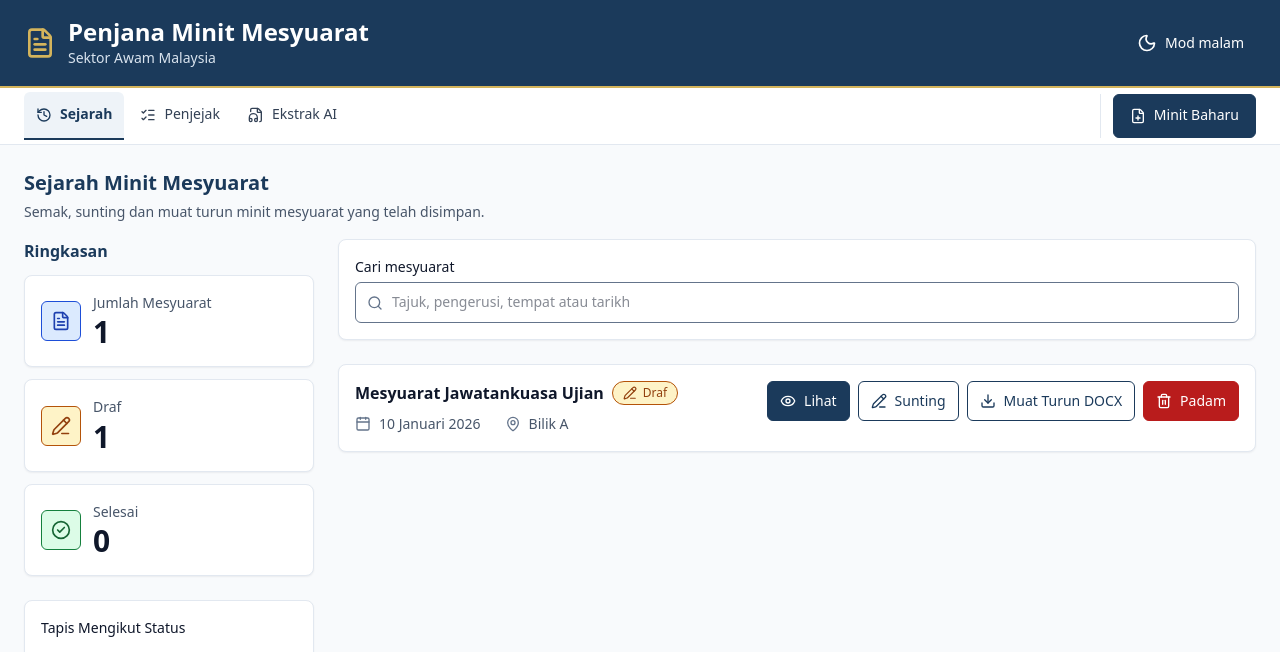
Test case: App navigation › leaving the editor flushes the draft, then refreshes /api/meetings
Check: the heading "Mesyuarat Jawatankuasa Ujian" is shown, box top-left (355, 381), bottom-right (604, 405)
Click the button "Minit Baharu": (1184, 116) top-left (1113, 94), bottom-right (1256, 138)
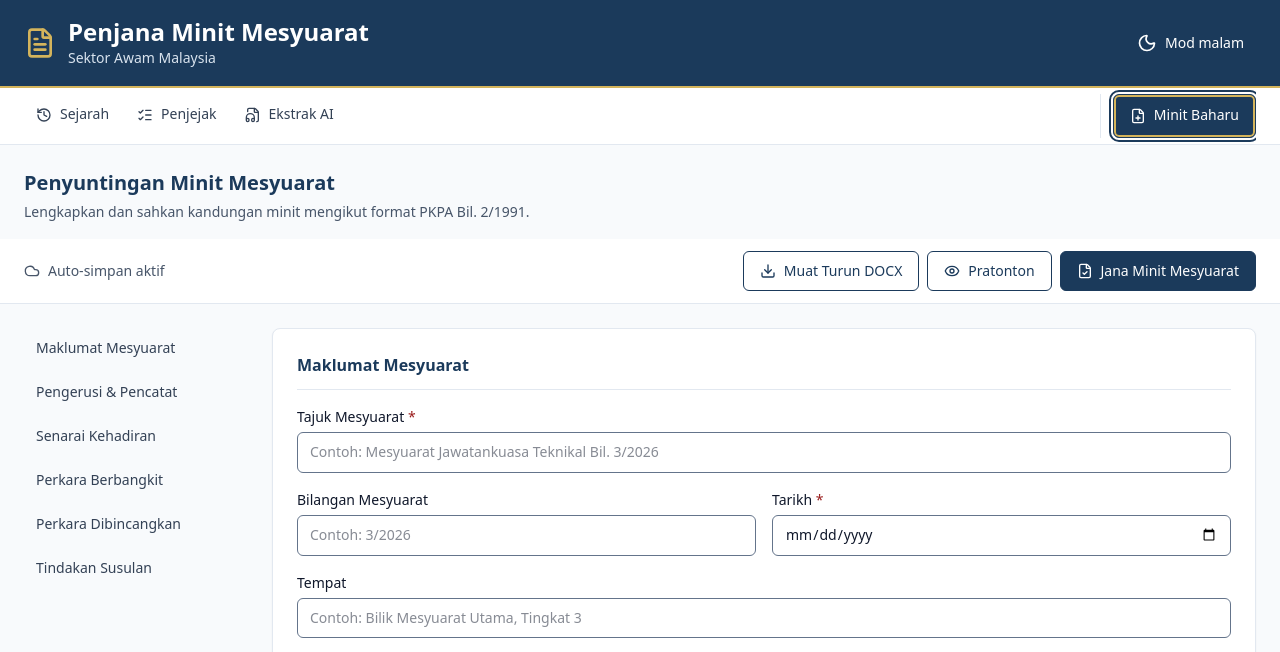
Check: the heading "Penyuntingan Minit Mesyuarat" is shown, box top-left (24, 169), bottom-right (335, 196)
In the field labelled "Tajuk Mesyuarat *": (764, 453) top-left (297, 432), bottom-right (1231, 473), type "Mesyuarat Draf Baharu"
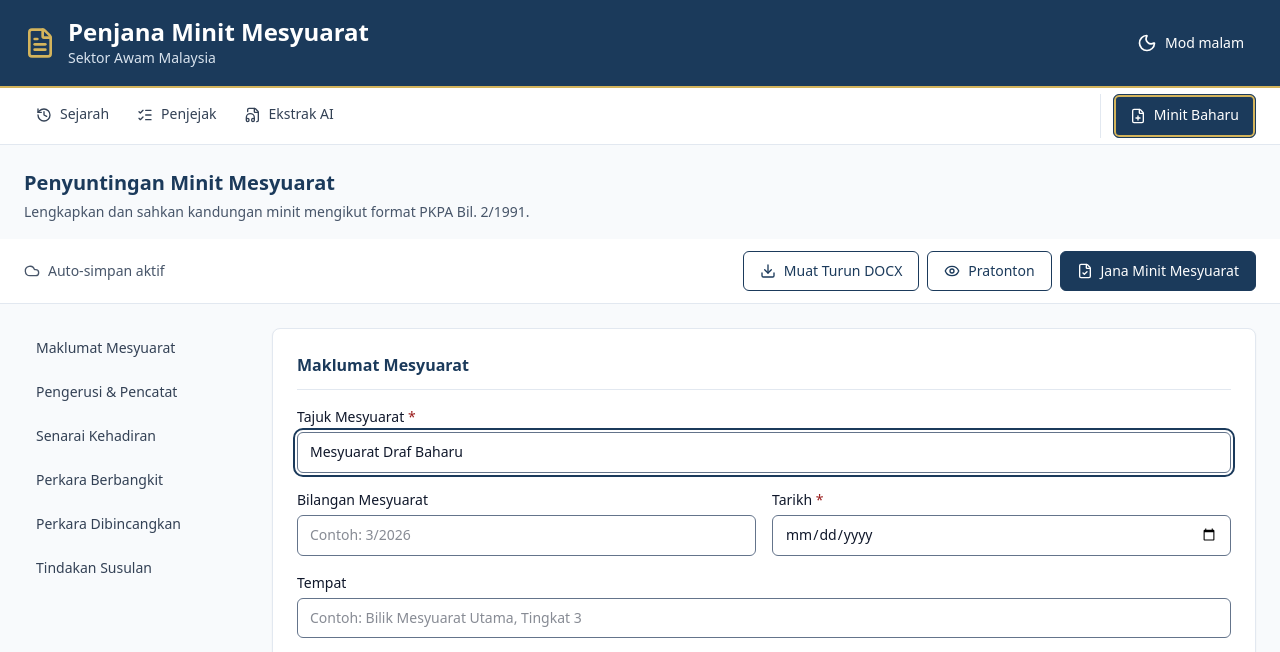
Click the button "Sejarah": (73, 116) top-left (24, 92), bottom-right (121, 140)
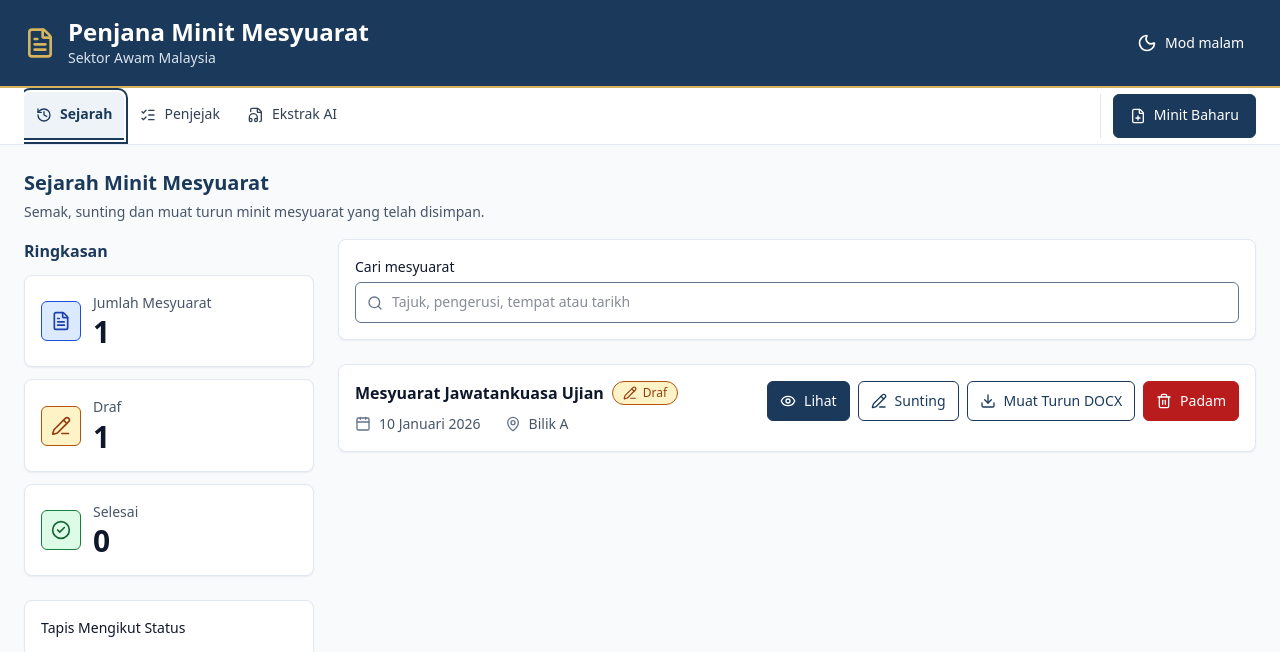
Check: the heading "Sejarah Minit Mesyuarat" is shown, box top-left (24, 169), bottom-right (269, 196)
